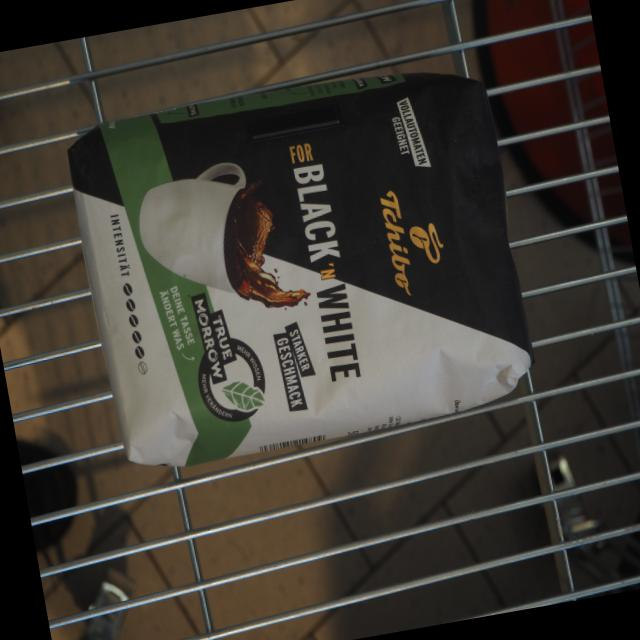BW Bohne: (56, 47, 551, 484)
